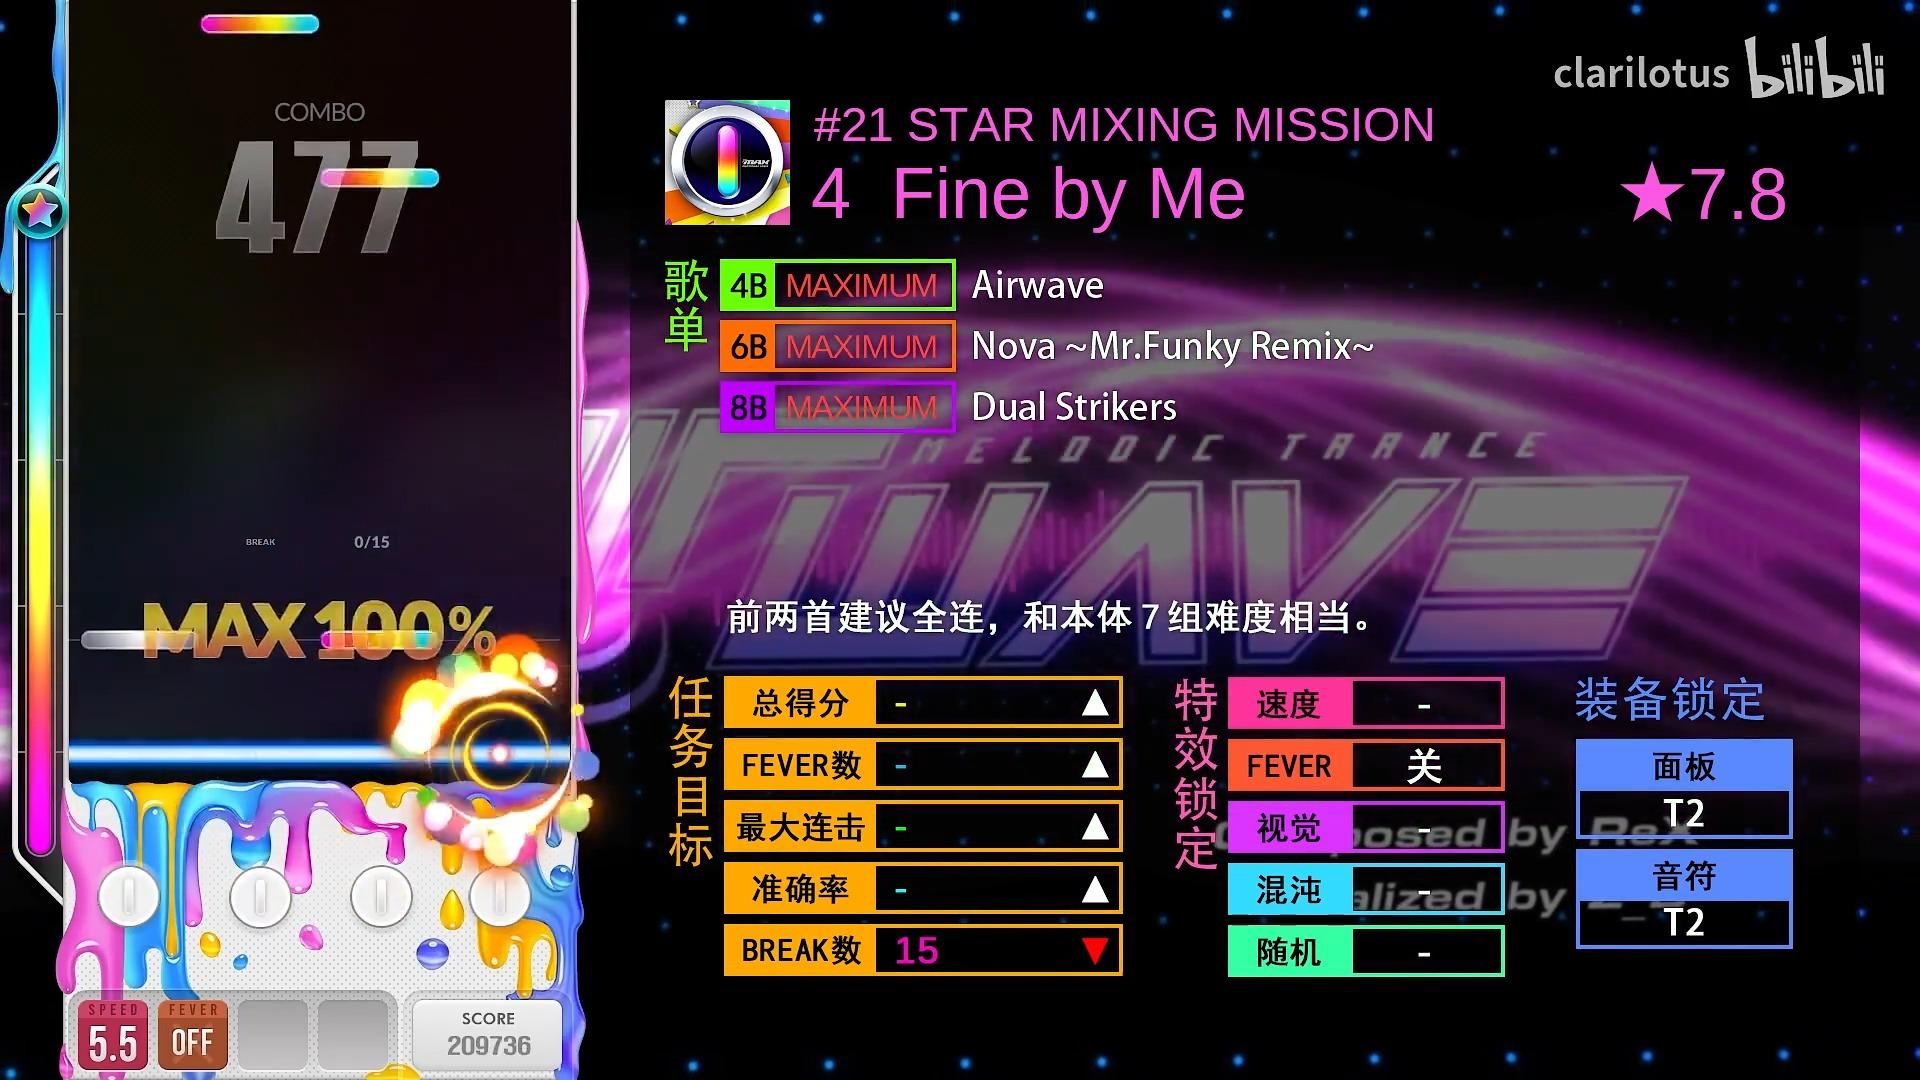note: (200, 13, 319, 36), (80, 629, 200, 650), (320, 167, 438, 189), (320, 630, 438, 650)
